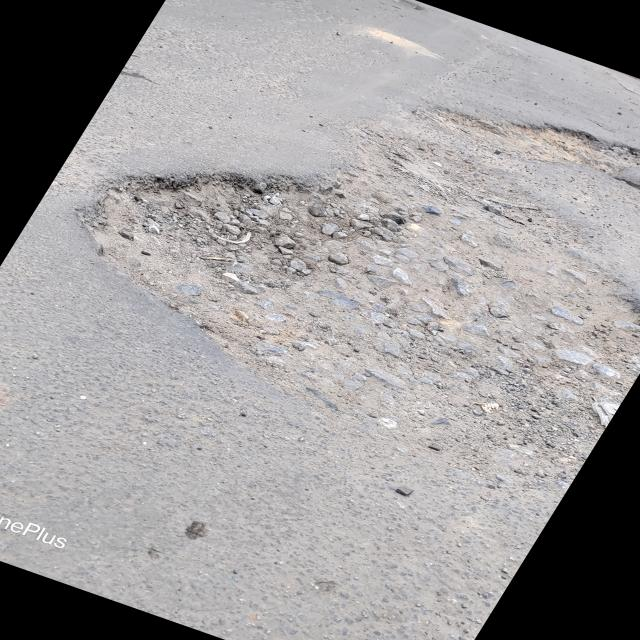potholes: (84, 102, 636, 445)
